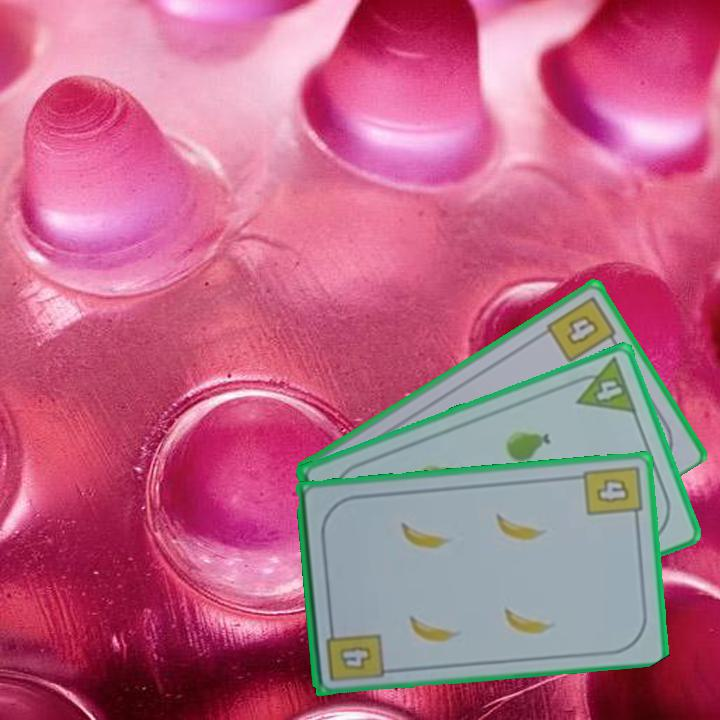4b: (542, 292, 622, 366), (580, 461, 645, 525), (322, 619, 386, 684)
4p: (566, 354, 640, 416)
